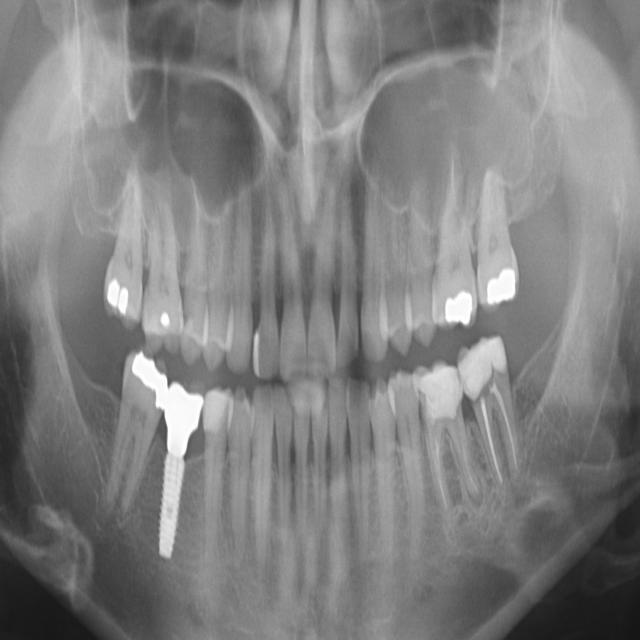dolgu: (452, 336, 512, 387), (414, 359, 462, 414), (199, 386, 238, 440), (479, 258, 518, 300), (129, 359, 167, 400), (448, 285, 480, 330), (108, 275, 136, 314), (153, 302, 178, 332)
implant: (159, 370, 197, 566)
kanal-tedavisi: (468, 393, 542, 482)
